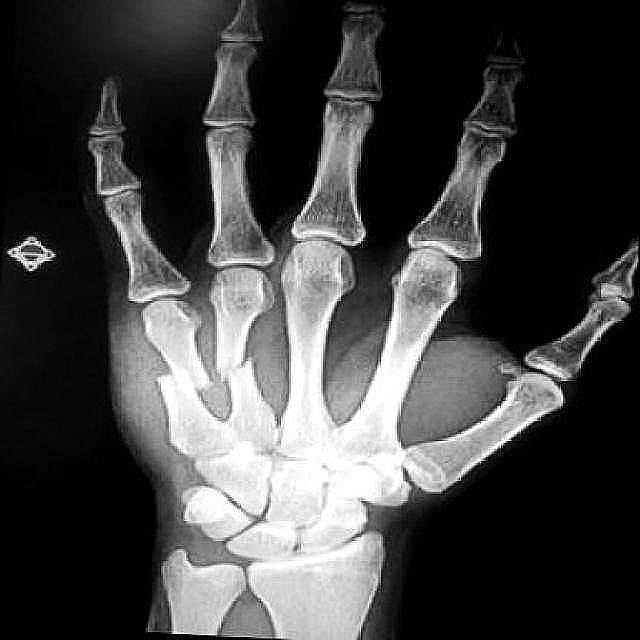bone: (212, 352, 272, 386), (153, 360, 210, 392)
